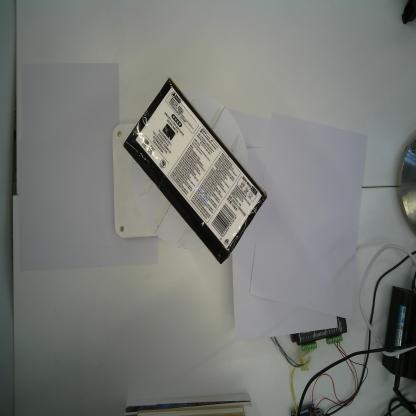Tissue: (122, 76, 268, 266)
